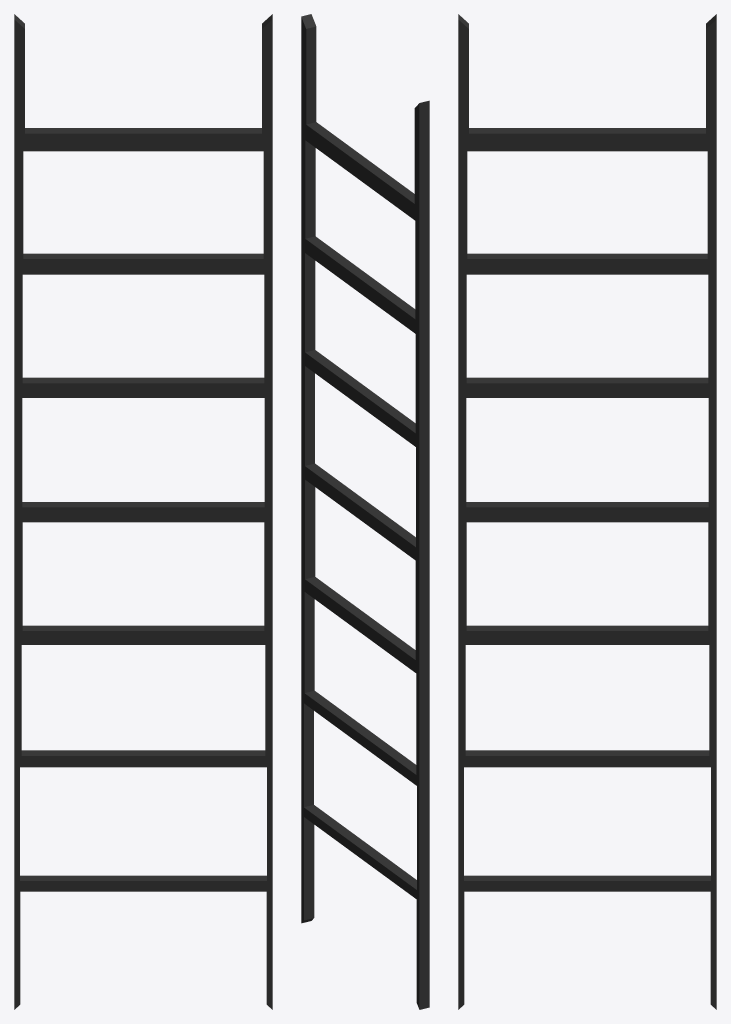
The model's file is ladders.fbx.
3 views of the same model, side by side, from view 1: azimuth 90°, elevation 25°; view 2: azimuth 210°, elevation 25°; view 3: azimuth 270°, elevation 25° (orthographic). The views are drawn at different scales.
Parts seen in each view (by area): view 1: Plane; view 2: Plane; view 3: Plane.
Boxes of the visible parts, x1,y1,x2,y2 form: Plane: (14,14,272,1009); Plane: (301,14,429,1009); Plane: (458,14,716,1009).
Bounding box in the file's own units: 10 × 846 × 200.
Materials: 1 (1 with a texture image).
